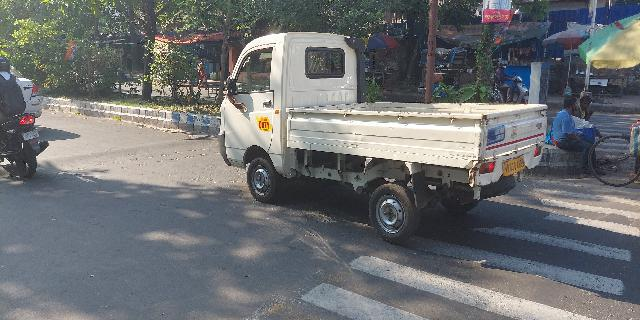Minitruck: (212, 27, 552, 244)
Motorbike: (1, 55, 51, 181)
